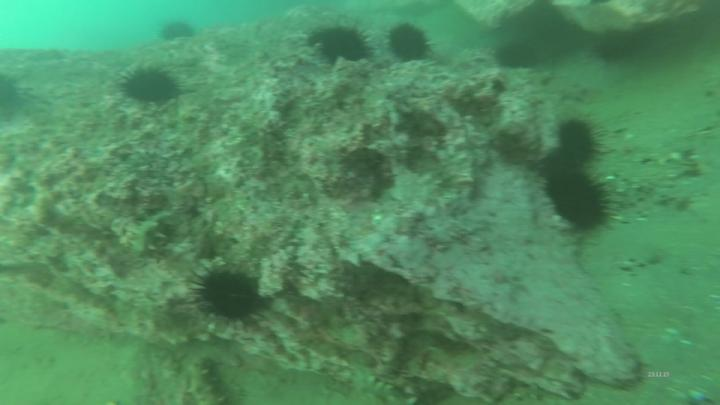echinus: (537, 162, 616, 238), (193, 263, 277, 333), (307, 19, 378, 66), (115, 64, 186, 106), (555, 116, 611, 168), (384, 18, 438, 68), (1, 74, 37, 116), (158, 17, 197, 44)
holothurian: (181, 355, 238, 405)
